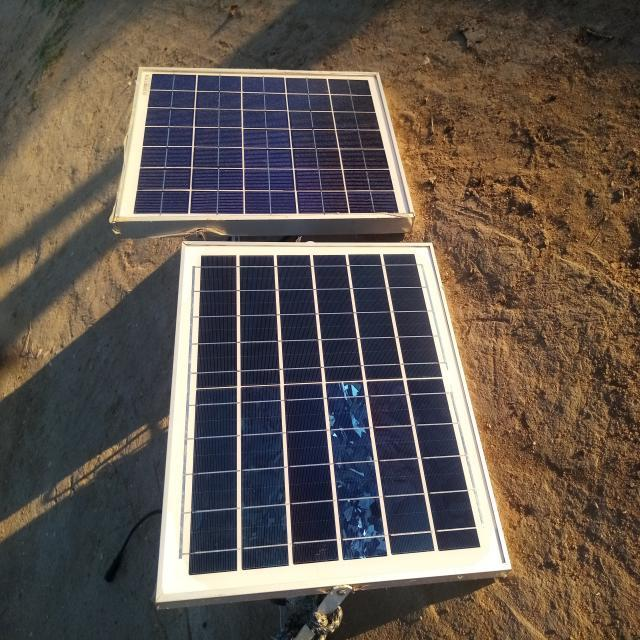no faulty: (158, 242, 509, 601), (112, 70, 409, 222)
